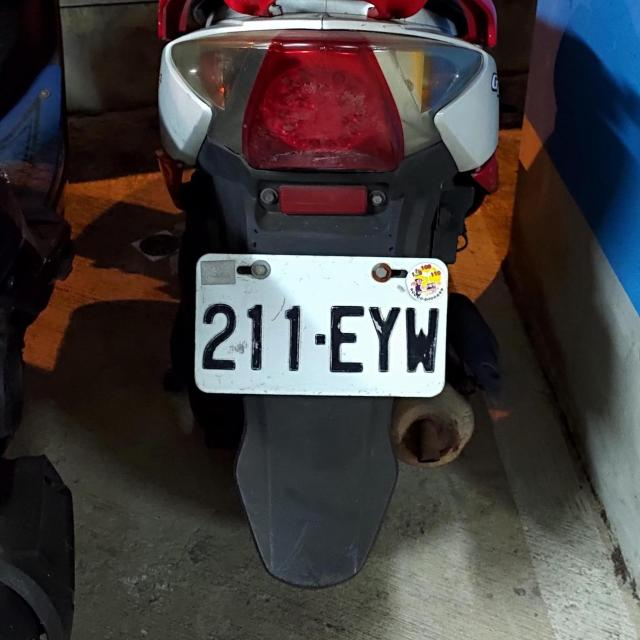W: (190, 252, 452, 396)
